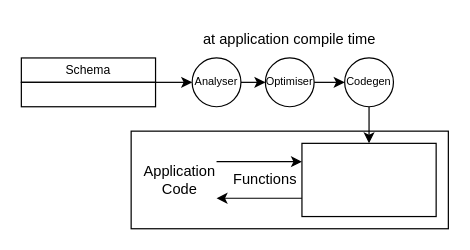
The diagram is 470 pixels wide and 250 high, and some of its shapes have lost their labels. Here are the shapes that lost their labels. From the top down, the centre of each, then its label:
At [88,94]: "Parameterised Queries".
At [368,179]: "Database Code".
